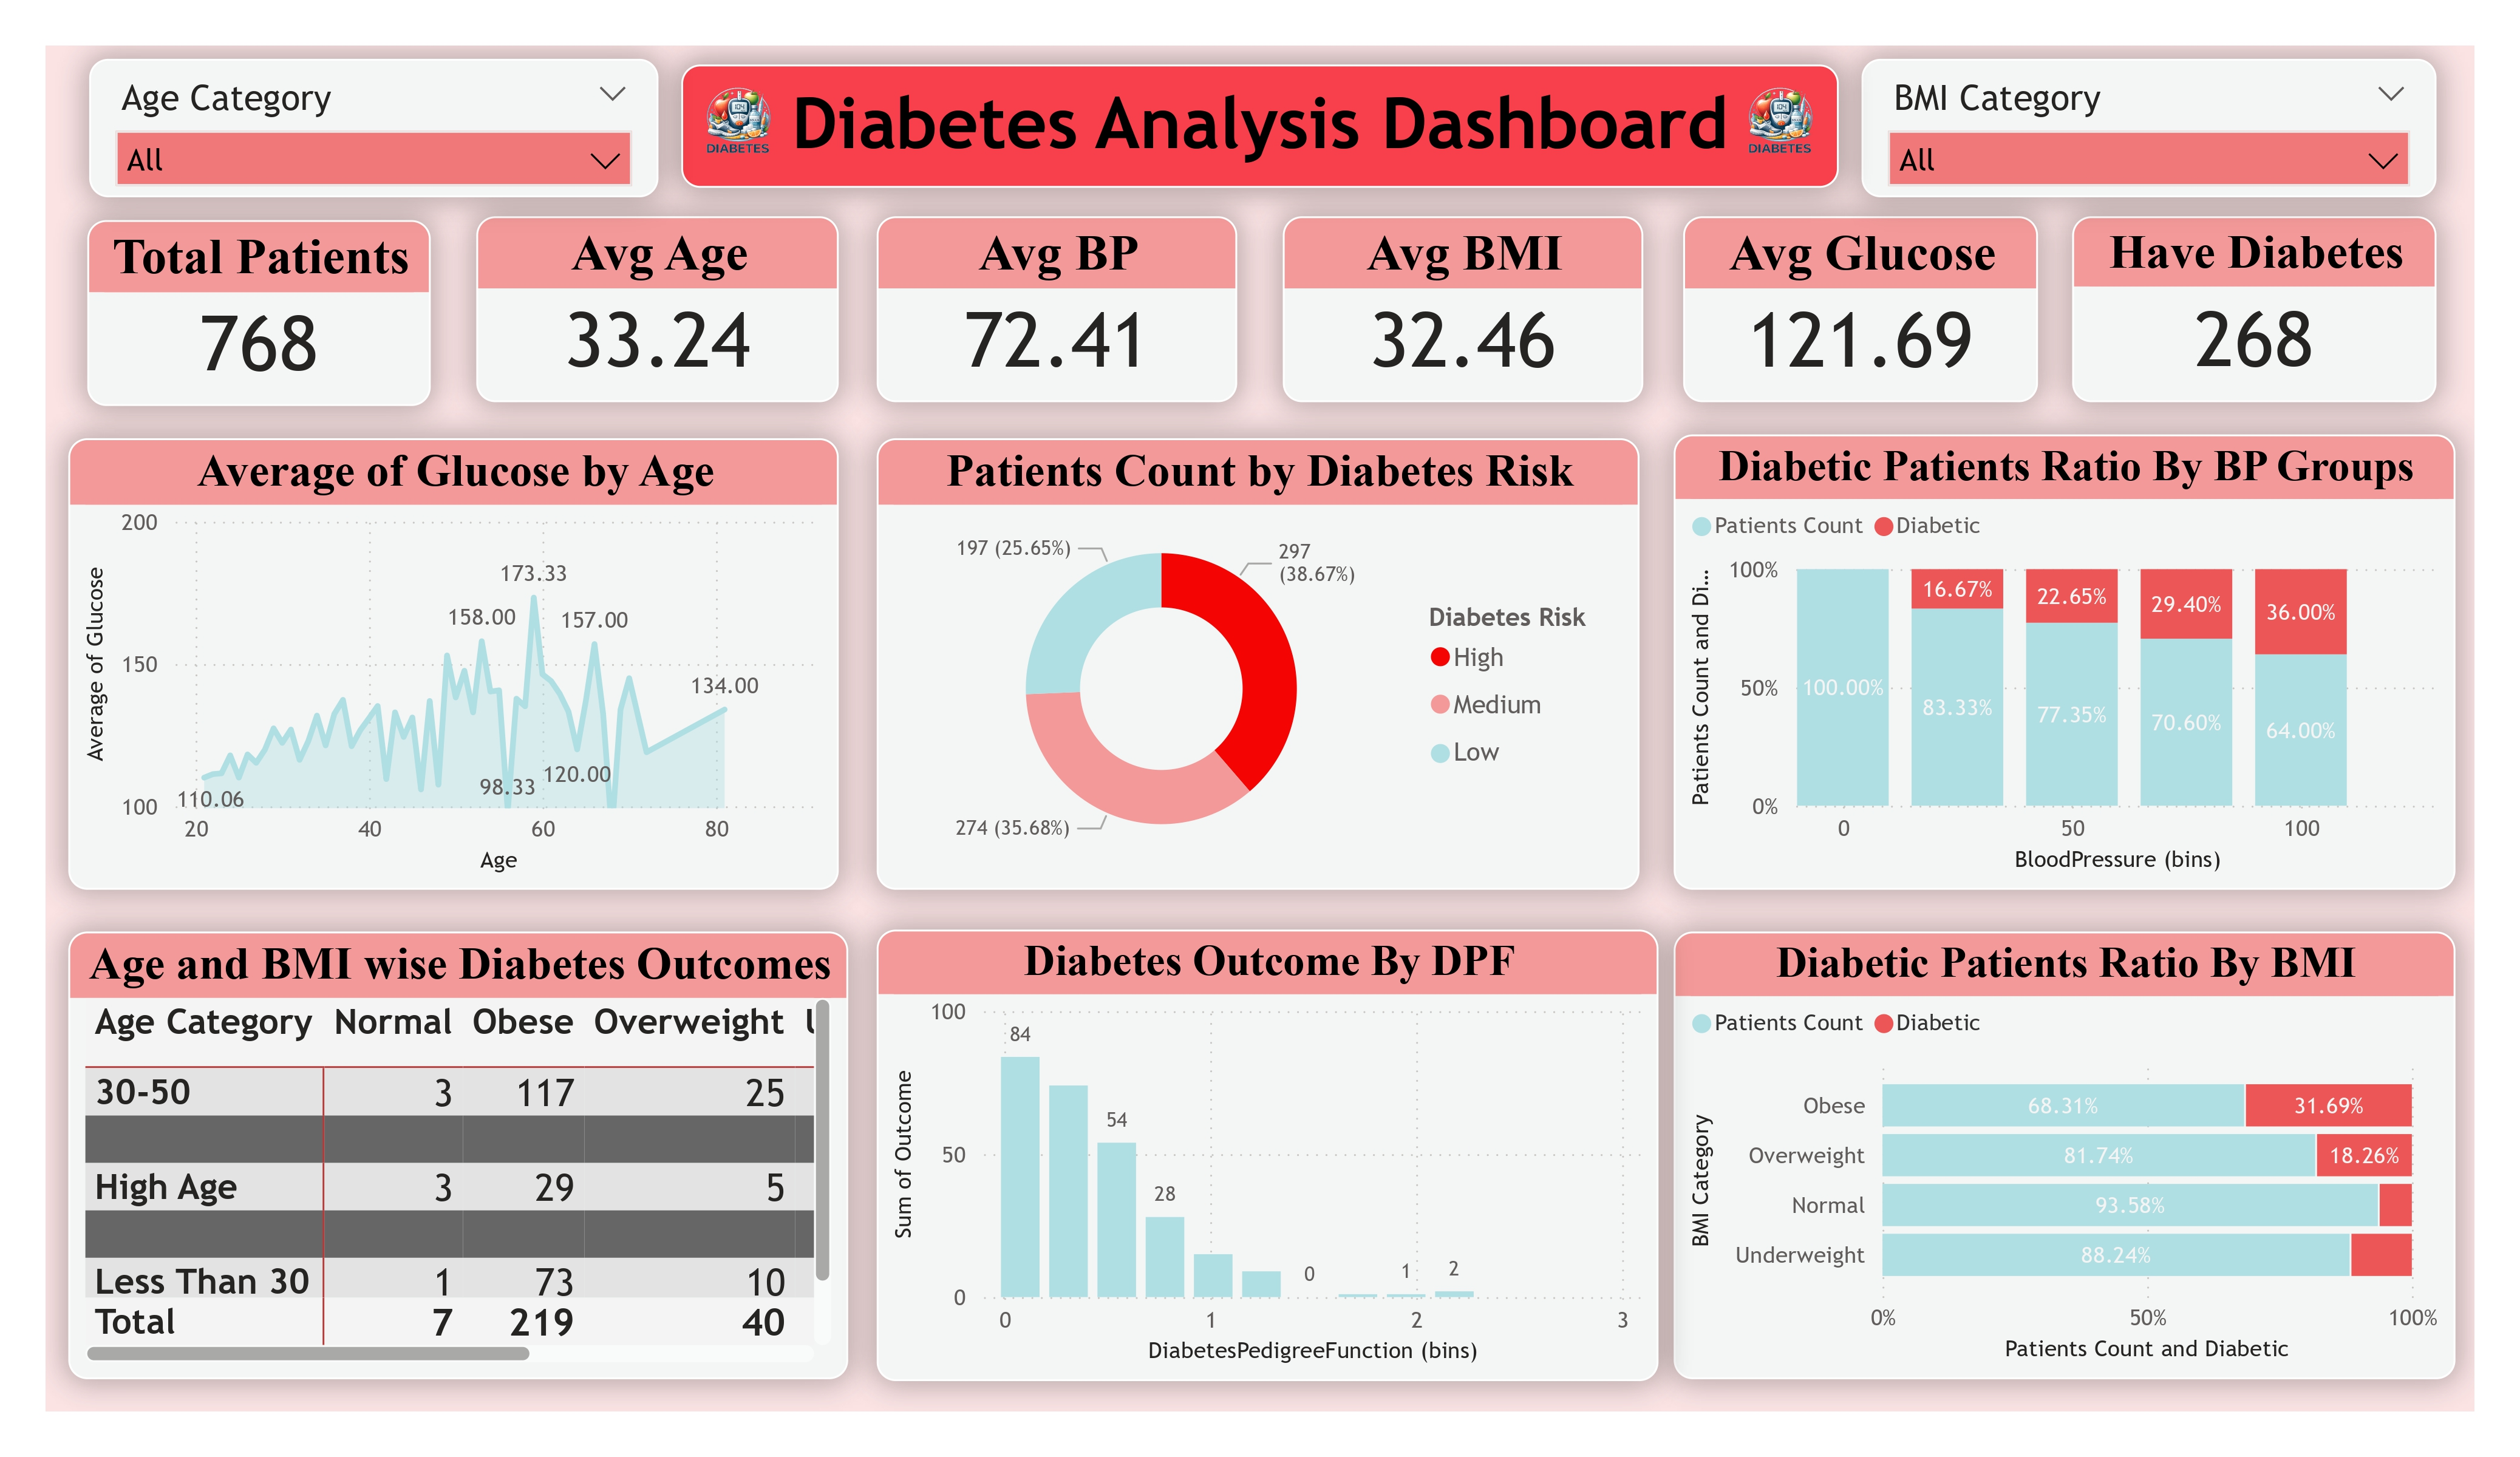

The page's visual inventory and layout, read from the dashboard file:
{"tool":"powerbi","page":{"name":"Page 1","canvas":[1280,720],"ordinal":0},"visuals":[{"type":"textbox","box":[335,10,610,65],"z":0,"group":"g1"},{"type":"card","title":"Total Patients","fields":{"Values":["diabetes.Patients Count"]},"box":[21.7,91.7,181.7,98.3],"z":0},{"type":"card","title":"Avg Age","fields":{"Values":["Avg(diabetes.Age)"]},"box":[226.7,90,191.7,98.3],"z":1000},{"type":"card","title":"Avg BP","fields":{"Values":["Avg(diabetes.BloodPressure)"]},"box":[438.3,90,190,98.3],"z":2000},{"type":"card","title":"Avg Glucose","fields":{"Values":["Avg(diabetes.Glucose)"]},"box":[863.3,90,186.7,98.3],"z":3000},{"type":"card","title":"Avg BMI","fields":{"Values":["Avg(diabetes.BMI)"]},"box":[651.7,90,190,98.3],"z":4000},{"type":"card","title":"Have Diabetes","fields":{"Values":["Sum(diabetes.Outcome)"]},"box":[1068.3,90,191.7,98.3],"z":5000},{"type":"areaChart","fields":{"Category":["diabetes.Age"],"Y":["Avg(diabetes.Glucose)"]},"box":[11.7,206.7,406.7,238.3],"z":6000},{"type":"donutChart","fields":{"Category":["diabetes.Diabetes Risk"],"Y":["diabetes.Patients Count"]},"box":[438.3,206.7,401.7,238.3],"z":7000},{"type":"hundredPercentStackedColumnChart","title":"Diabetic Patients Ratio By BP Groups","fields":{"Category":["diabetes.BloodPressure (bins)"],"Y":["diabetes.Patients Count","Sum(diabetes.Outcome)"]},"box":[858.3,205,411.7,240],"z":8000},{"type":"hundredPercentStackedBarChart","title":"Diabetic Patients Ratio By BMI","fields":{"Category":["diabetes.BMI Category"],"Y":["diabetes.Patients Count","Sum(diabetes.Outcome)"]},"box":[858.3,466.7,411.7,236.7],"z":9000},{"type":"slicer","title":"Total Patients","fields":{"Values":["diabetes.BMI Category"]},"box":[956.7,6.7,303.3,73.3],"z":10000},{"type":"pivotTable","title":"Age and BMI wise Diabetes Outcomes","fields":{"Rows":["diabetes.Age Category"],"Columns":["diabetes.BMI Category"],"Values":["Sum(diabetes.Outcome)"]},"box":[11.7,466.7,411.7,236.7],"z":11000},{"type":"columnChart","title":"Diabetes Outcome By DPF","fields":{"Category":["diabetes.DiabetesPedigreeFunction (bins)"],"Y":["Sum(diabetes.Outcome)"]},"box":[438,466,412,238],"z":12000},{"type":"group","id":"g1","title":"Group 1","box":[335,10,610,65],"z":13000},{"type":"slicer","title":"Total Patients","fields":{"Values":["diabetes.Age Category"]},"box":[23.3,6.7,300,73.3],"z":14000},{"type":"image","box":[335.3,14.7,60.2,56.7],"z":14000,"group":"g1"},{"type":"image","box":[884.2,15,60.2,56],"z":15000,"group":"g1"}]}

Visuals, with their boxes on the page's 1280x720 design canvas (x1, y1, x2, y2). These are canvas units, not pixel positions in the 2520x1457 screenshot, which may show the page scaled, cropped or inside an application window:
textbox: pyautogui.locateOnScreen(335, 10, 945, 75)
"Total Patients" card: pyautogui.locateOnScreen(22, 92, 203, 190)
"Avg Age" card: pyautogui.locateOnScreen(227, 90, 418, 188)
"Avg BP" card: pyautogui.locateOnScreen(438, 90, 628, 188)
"Avg Glucose" card: pyautogui.locateOnScreen(863, 90, 1050, 188)
"Avg BMI" card: pyautogui.locateOnScreen(652, 90, 842, 188)
"Have Diabetes" card: pyautogui.locateOnScreen(1068, 90, 1260, 188)
areaChart - diabetes.Age x Avg(diabetes.Glucose): pyautogui.locateOnScreen(12, 207, 418, 445)
donutChart - diabetes.Diabetes Risk x diabetes.Patients Count: pyautogui.locateOnScreen(438, 207, 840, 445)
"Diabetic Patients Ratio By BP Groups" hundredPercentStackedColumnChart: pyautogui.locateOnScreen(858, 205, 1270, 445)
"Diabetic Patients Ratio By BMI" hundredPercentStackedBarChart: pyautogui.locateOnScreen(858, 467, 1270, 703)
"Total Patients" slicer: pyautogui.locateOnScreen(957, 7, 1260, 80)
"Age and BMI wise Diabetes Outcomes" pivotTable: pyautogui.locateOnScreen(12, 467, 423, 703)
"Diabetes Outcome By DPF" columnChart: pyautogui.locateOnScreen(438, 466, 850, 704)
"Group 1" group: pyautogui.locateOnScreen(335, 10, 945, 75)
"Total Patients" slicer: pyautogui.locateOnScreen(23, 7, 323, 80)
image: pyautogui.locateOnScreen(335, 15, 396, 71)
image: pyautogui.locateOnScreen(884, 15, 944, 71)
